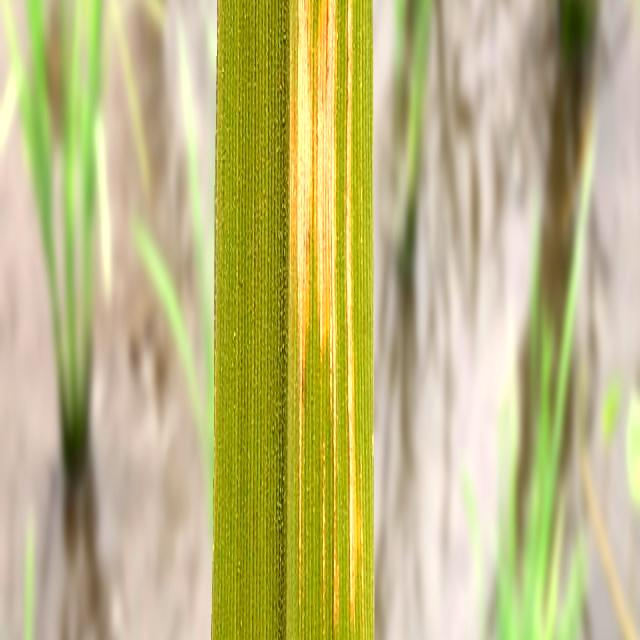BLS: (314, 0, 337, 464), (295, 0, 313, 573), (346, 0, 358, 619), (332, 465, 340, 640), (321, 439, 325, 640)
